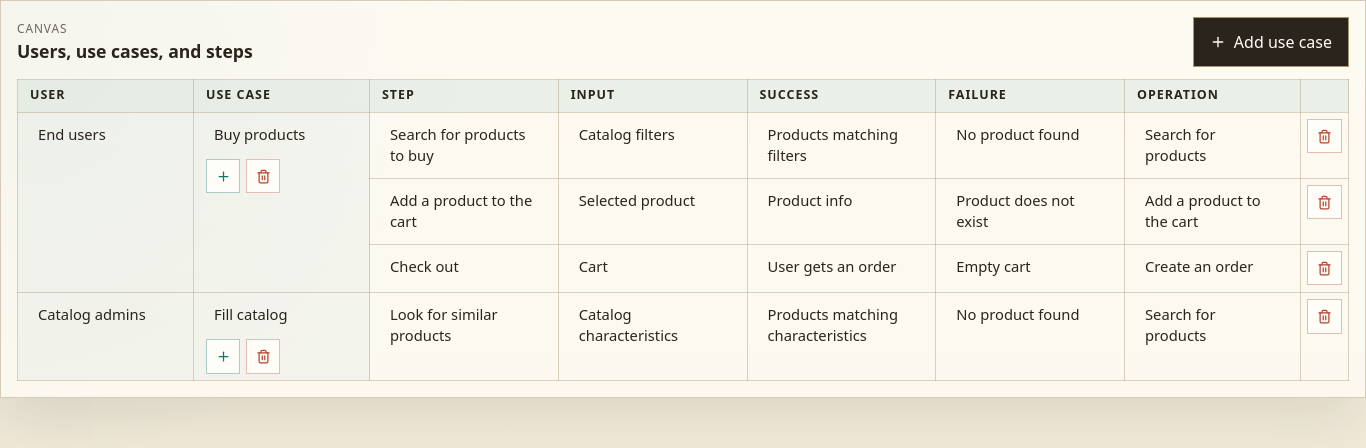
Test case: CanvasEditorTab › renders existing canvas values as text until clicked
Click the button with aria-label "Input for Search for products to buy": (653, 135) [571,119,735,151]
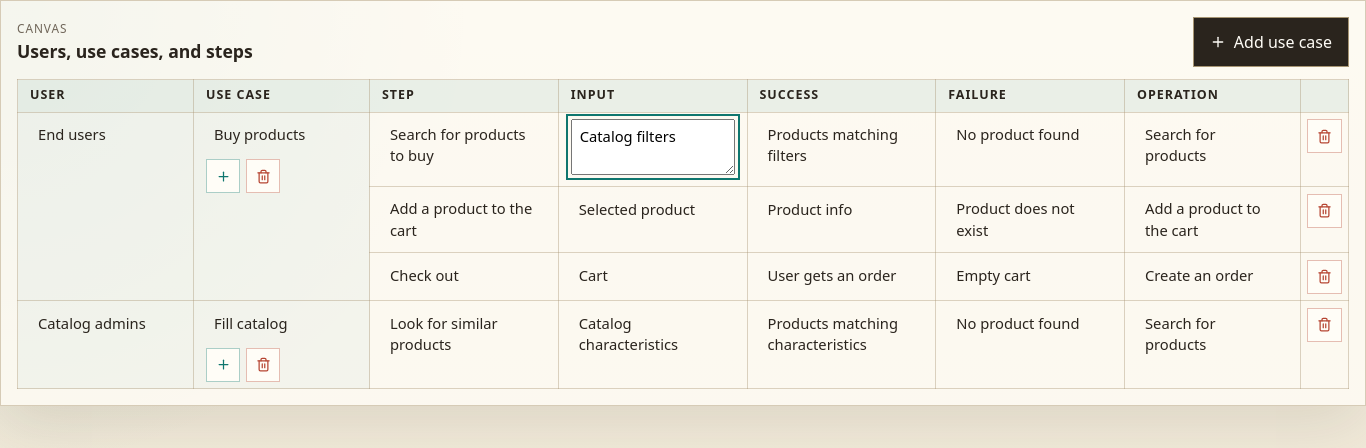
Check: the text box named "Input for Search for products to buy" holds "Catalog filters", box [571,119,735,175]
